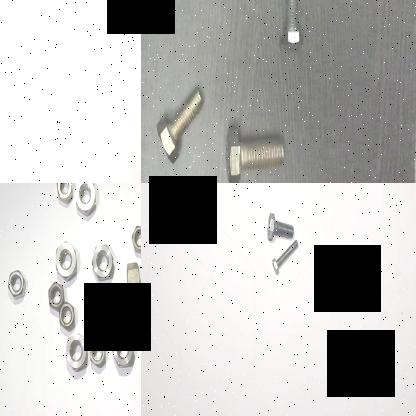Bolts: (150, 76, 212, 172), (222, 121, 293, 183), (274, 0, 311, 62), (264, 207, 296, 243), (271, 239, 299, 279), (141, 0, 161, 31)
NUTS: (62, 332, 89, 375), (90, 242, 115, 286), (110, 328, 136, 370), (52, 238, 76, 283), (73, 183, 99, 218), (123, 260, 141, 306), (57, 298, 78, 334), (87, 335, 108, 371), (7, 268, 27, 303), (44, 278, 64, 312), (54, 183, 74, 208), (131, 219, 141, 259), (137, 302, 141, 334)
